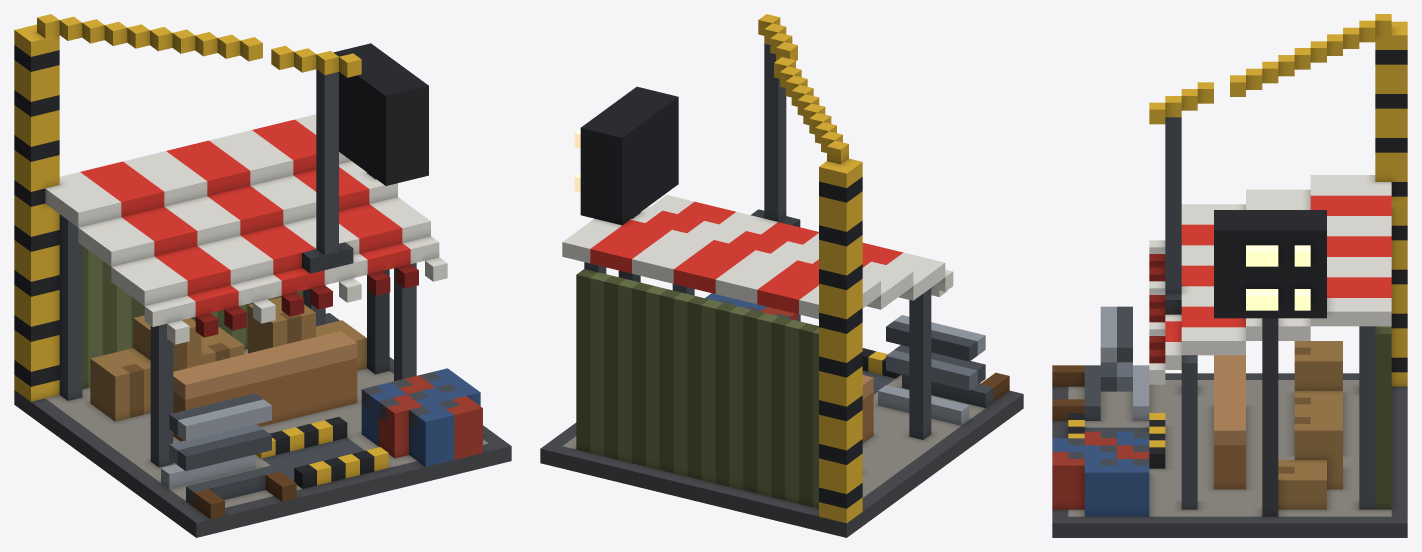
The model's file is cm_market_0.glb.
3 views of the same model, side by side, from view 1: azimuth 30°, elevation 25°; view 2: azimuth 150°, elevation 25°; view 3: azimuth 270°, elevation 25° (orthographic). The views are drawn at different scales.
Visible parts, largest first — view 1: cm_market_0_body; view 2: cm_market_0_body; view 3: cm_market_0_body.
Part boxes in pixels (x1=…): cm_market_0_body: x1=14, y1=14, x2=511, y2=537; cm_market_0_body: x1=540, y1=14, x2=1023, y2=537; cm_market_0_body: x1=1052, y1=14, x2=1407, y2=537.
Bounding box in the file's own units: 1.44 × 1.62 × 1.38.
1 material, 1 textured.
